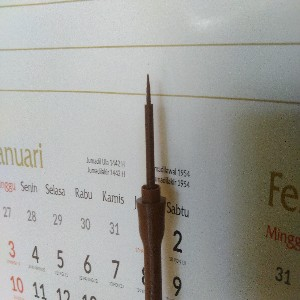solder: (135, 72, 166, 300)
